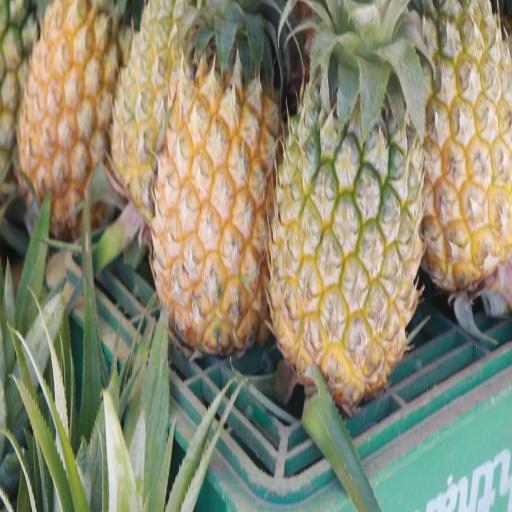------------------------------: (264, 0, 426, 423)
Pineapple - v8 v1: (147, 0, 286, 358), (399, 0, 512, 309), (10, 0, 119, 253)
